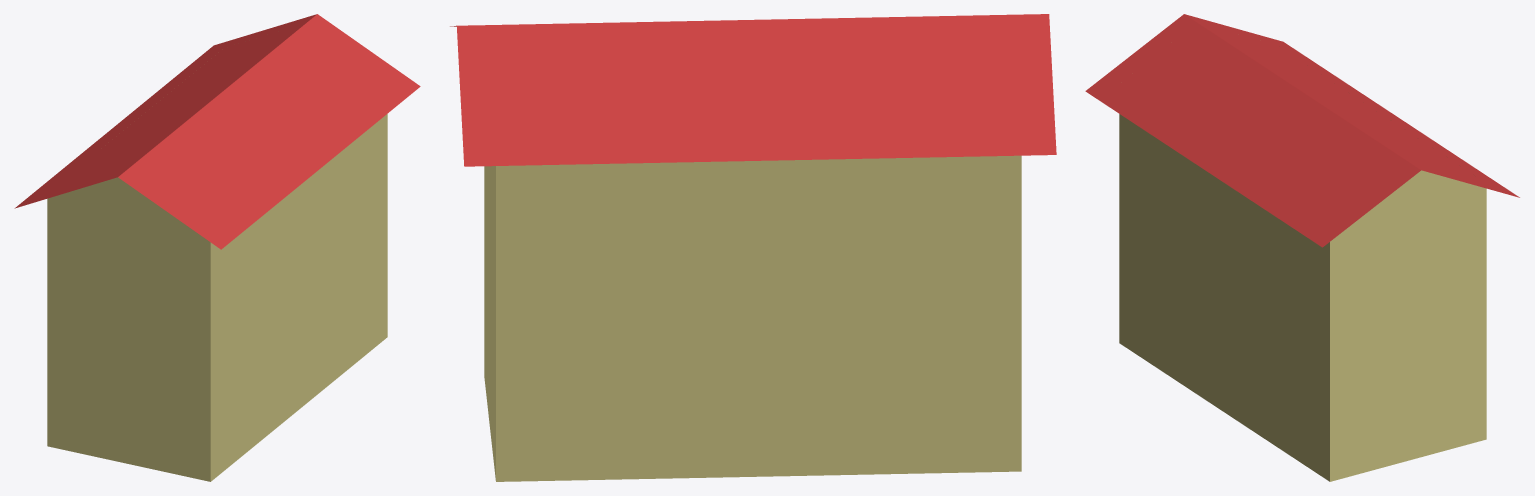
The picture shows the model from 3 angles, left to right: view 1: azimuth 30°, elevation 25°; view 2: azimuth 150°, elevation 25°; view 3: azimuth 270°, elevation 25°; orthographic projection. The views are drawn at different scales.
Size of the model in its own units: 10.05 by 8.81 by 6.68.
